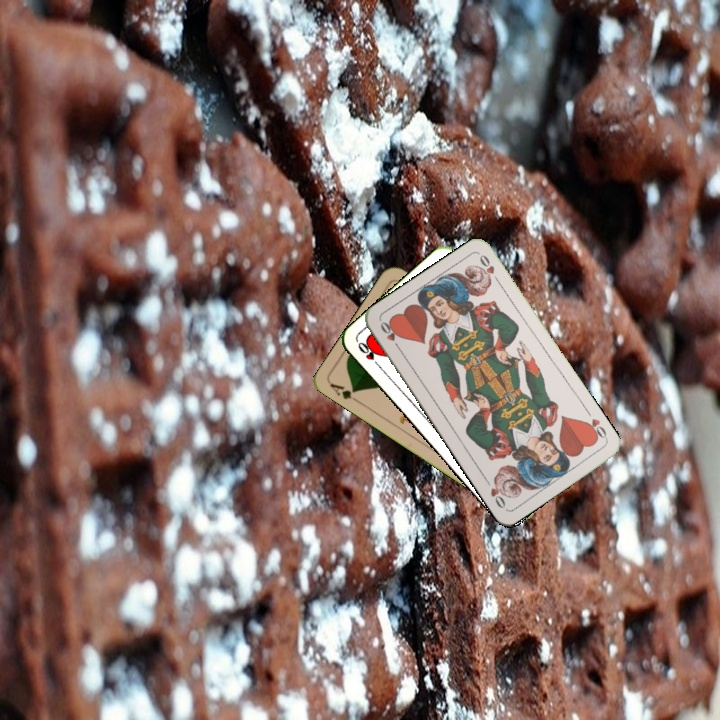GA: (326, 379, 363, 406)
HO: (354, 338, 385, 372), (376, 317, 404, 354), (580, 414, 610, 443)
